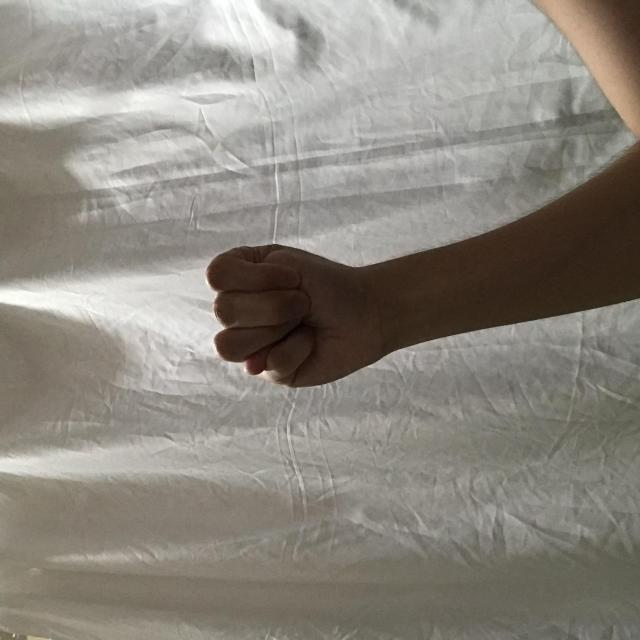M: (251, 208, 396, 378)
